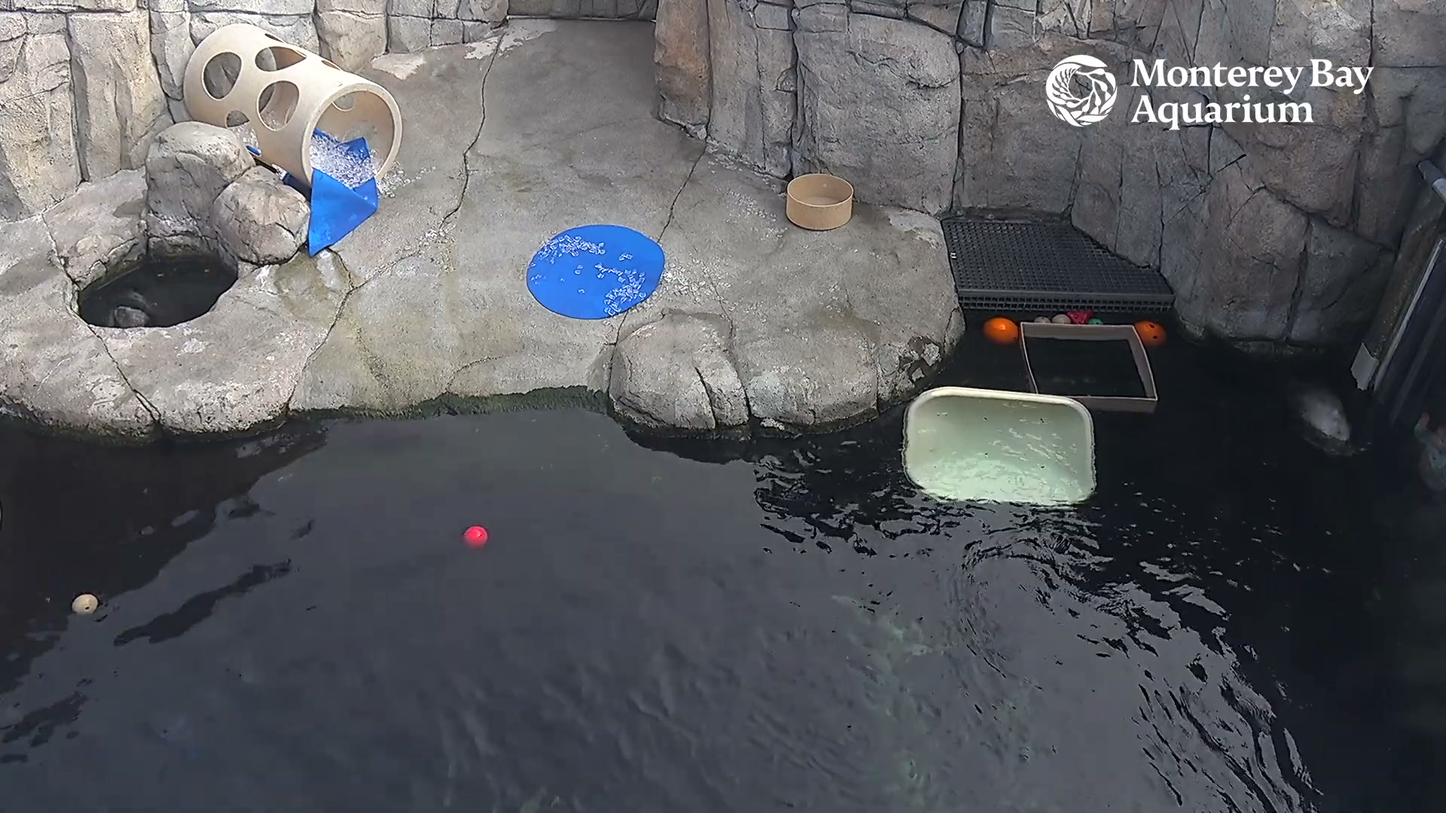Southern Sea Otter: (95, 278, 167, 345)
